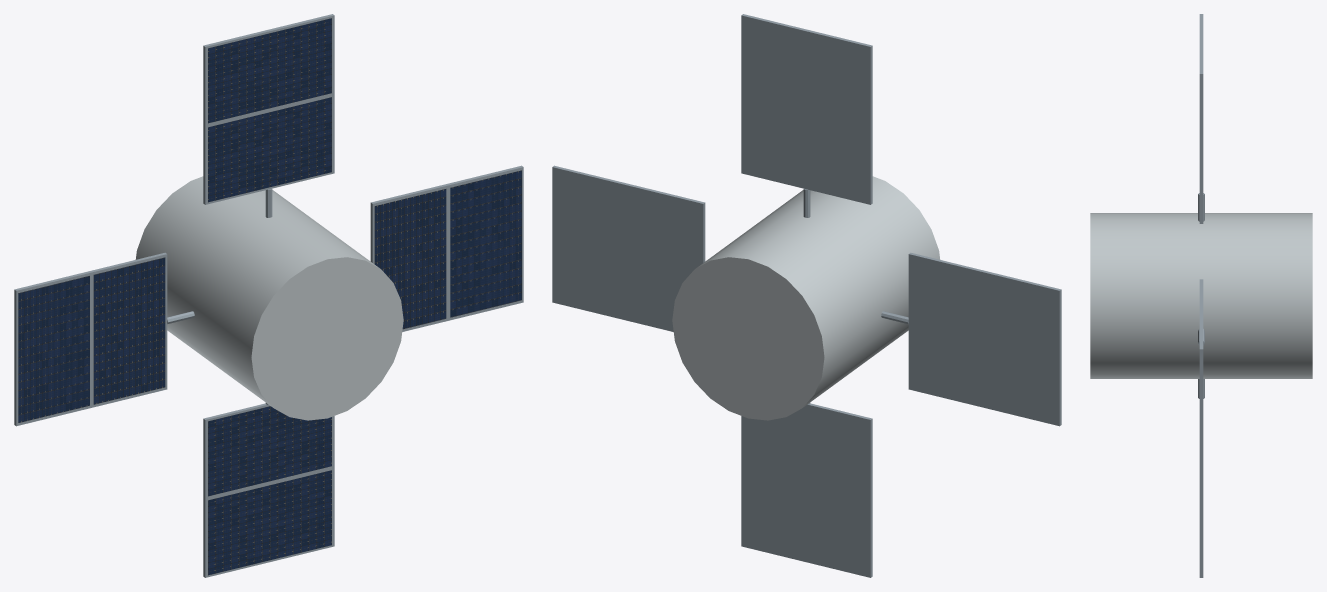
Rendered from ref-sr-10-5317.glb.
3 views of the same model, side by side, from view 1: azimuth 30°, elevation 25°; view 2: azimuth 150°, elevation 25°; view 3: azimuth 270°, elevation 25° (orthographic). The views are drawn at different scales.
Visible parts, largest first — view 1: Photovoltaic laminates (×8), Spacecraft body, Array frame (×8); view 2: Array frame (×8), Spacecraft body; view 3: Spacecraft body, Array frame (×4).
Boxes of the visible parts, x1,y1,x2,y2 form: Photovoltaic laminates (×8): (18, 18, 521, 575); Spacecraft body: (135, 176, 403, 420); Array frame (×8): (14, 14, 523, 577); Array frame (×8): (552, 14, 1061, 577); Spacecraft body: (672, 176, 940, 420); Spacecraft body: (1090, 213, 1312, 378); Array frame (×4): (1199, 14, 1203, 577).
Bounding box in the file's own units: 2 × 2 × 0.8.
Materials: 3 (1 with a texture image).
